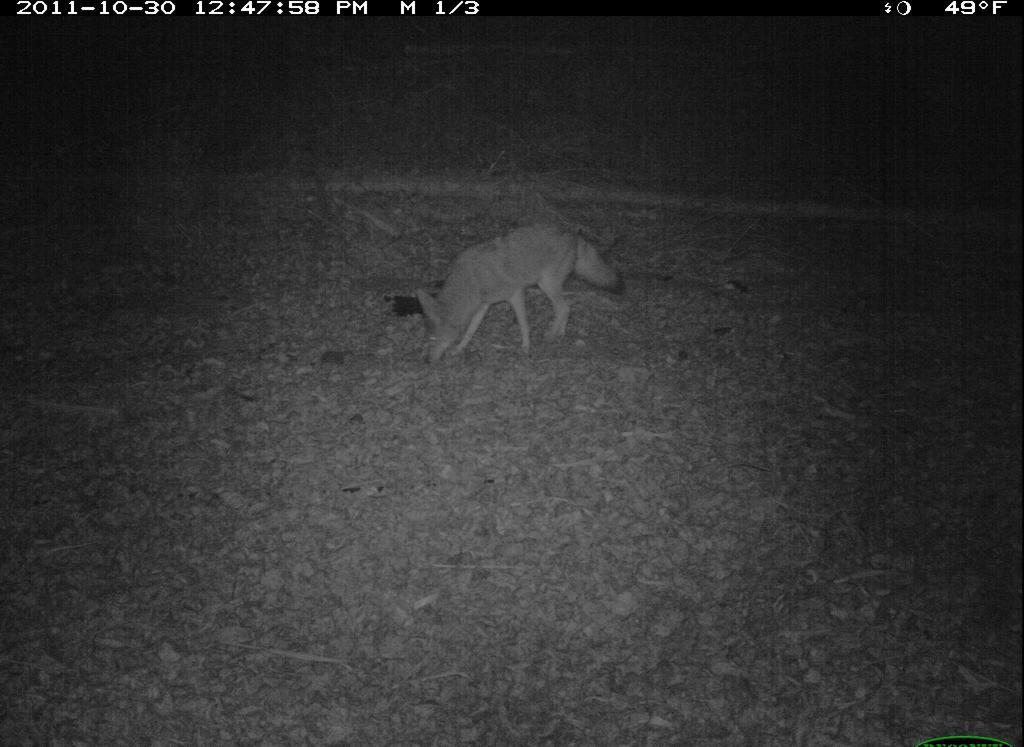coyote: (411, 221, 633, 369)
